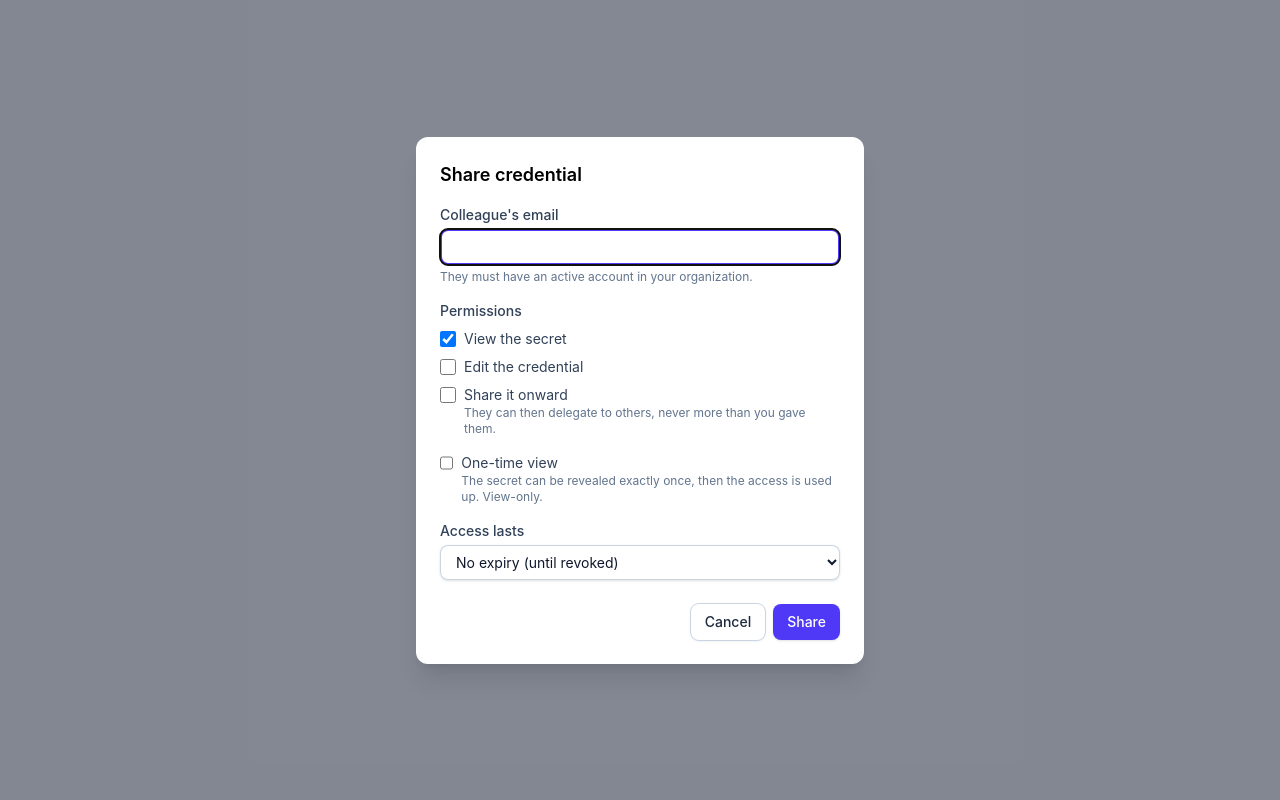
Test: ShareDialog › explains the backend rule invalid_grantee
Type "bob@acme.example" into the field labelled "Colleague's email" at (640, 246), box x1=440 y1=228 x2=840 y2=264
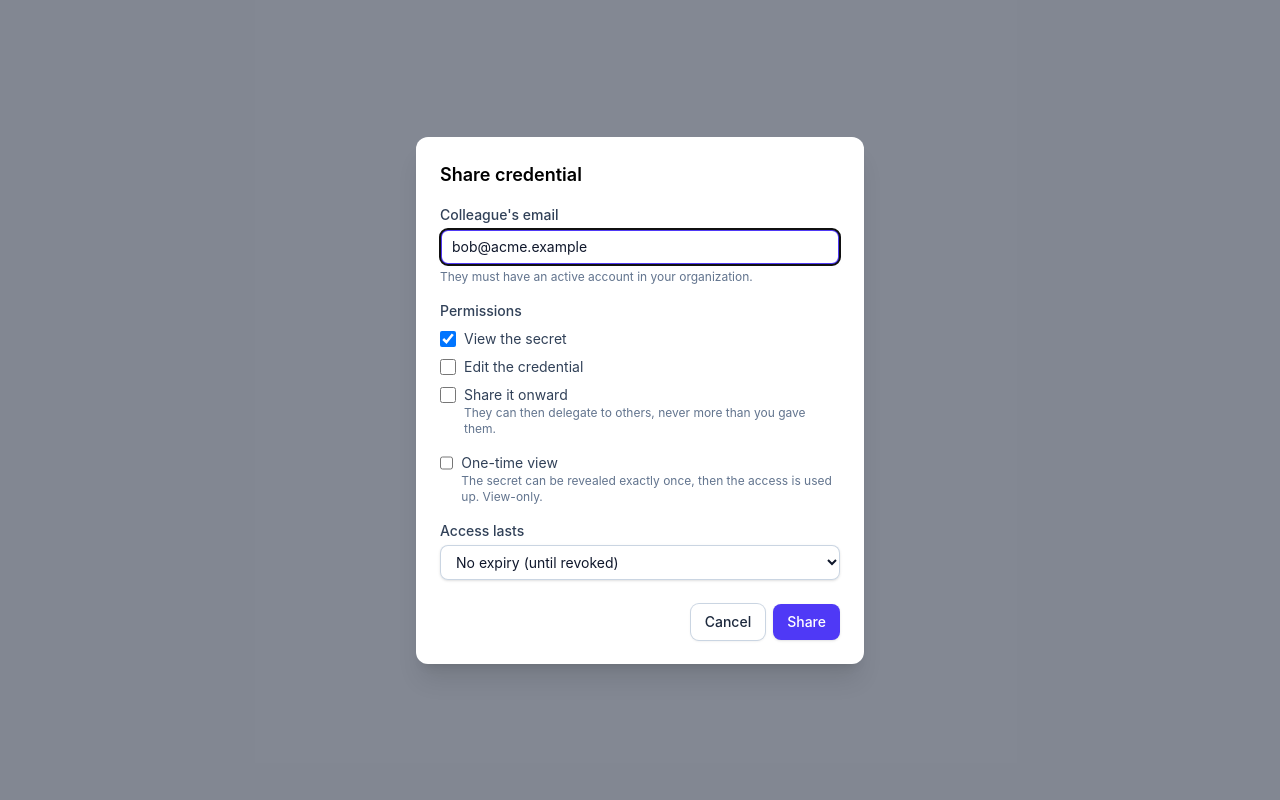
Click the button "Share" at (807, 622), box x1=773 y1=604 x2=840 y2=640
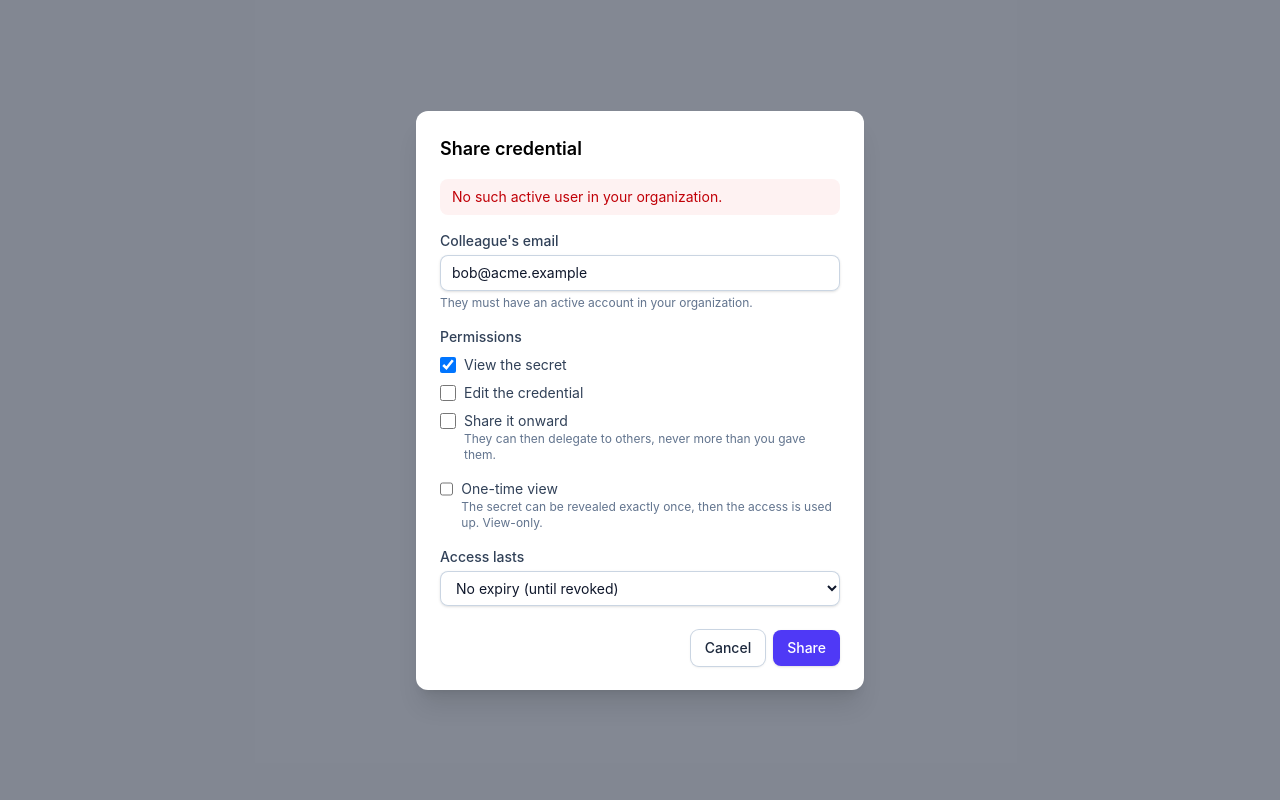
Now the message shows "No such active user", box x1=452 y1=188 x2=722 y2=204
